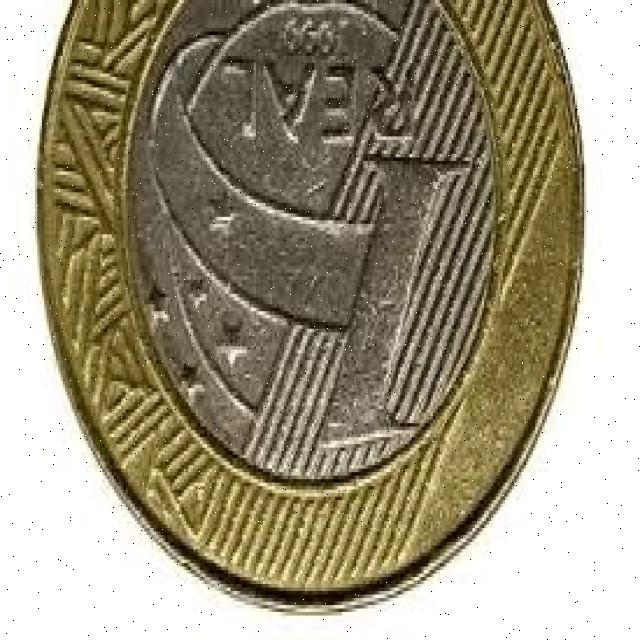1 real: (39, 0, 571, 609)
